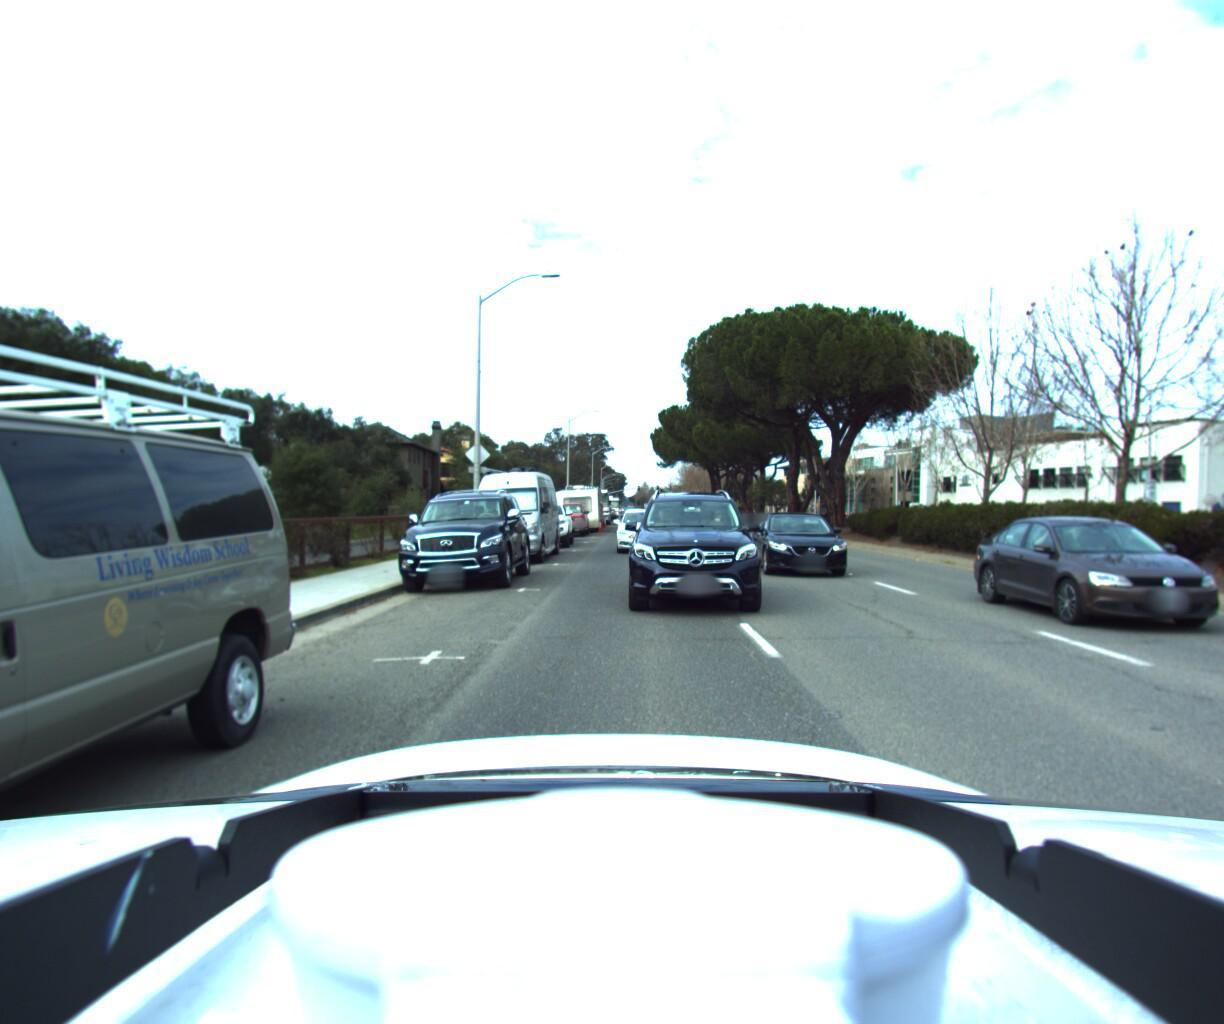car: (993, 510, 1224, 651), (633, 481, 781, 633), (390, 482, 530, 597), (460, 455, 559, 567), (754, 505, 871, 582), (514, 499, 572, 551), (613, 505, 669, 553), (541, 501, 588, 538)
other_vehicle: (550, 476, 600, 534), (559, 487, 604, 530), (575, 487, 610, 526)
